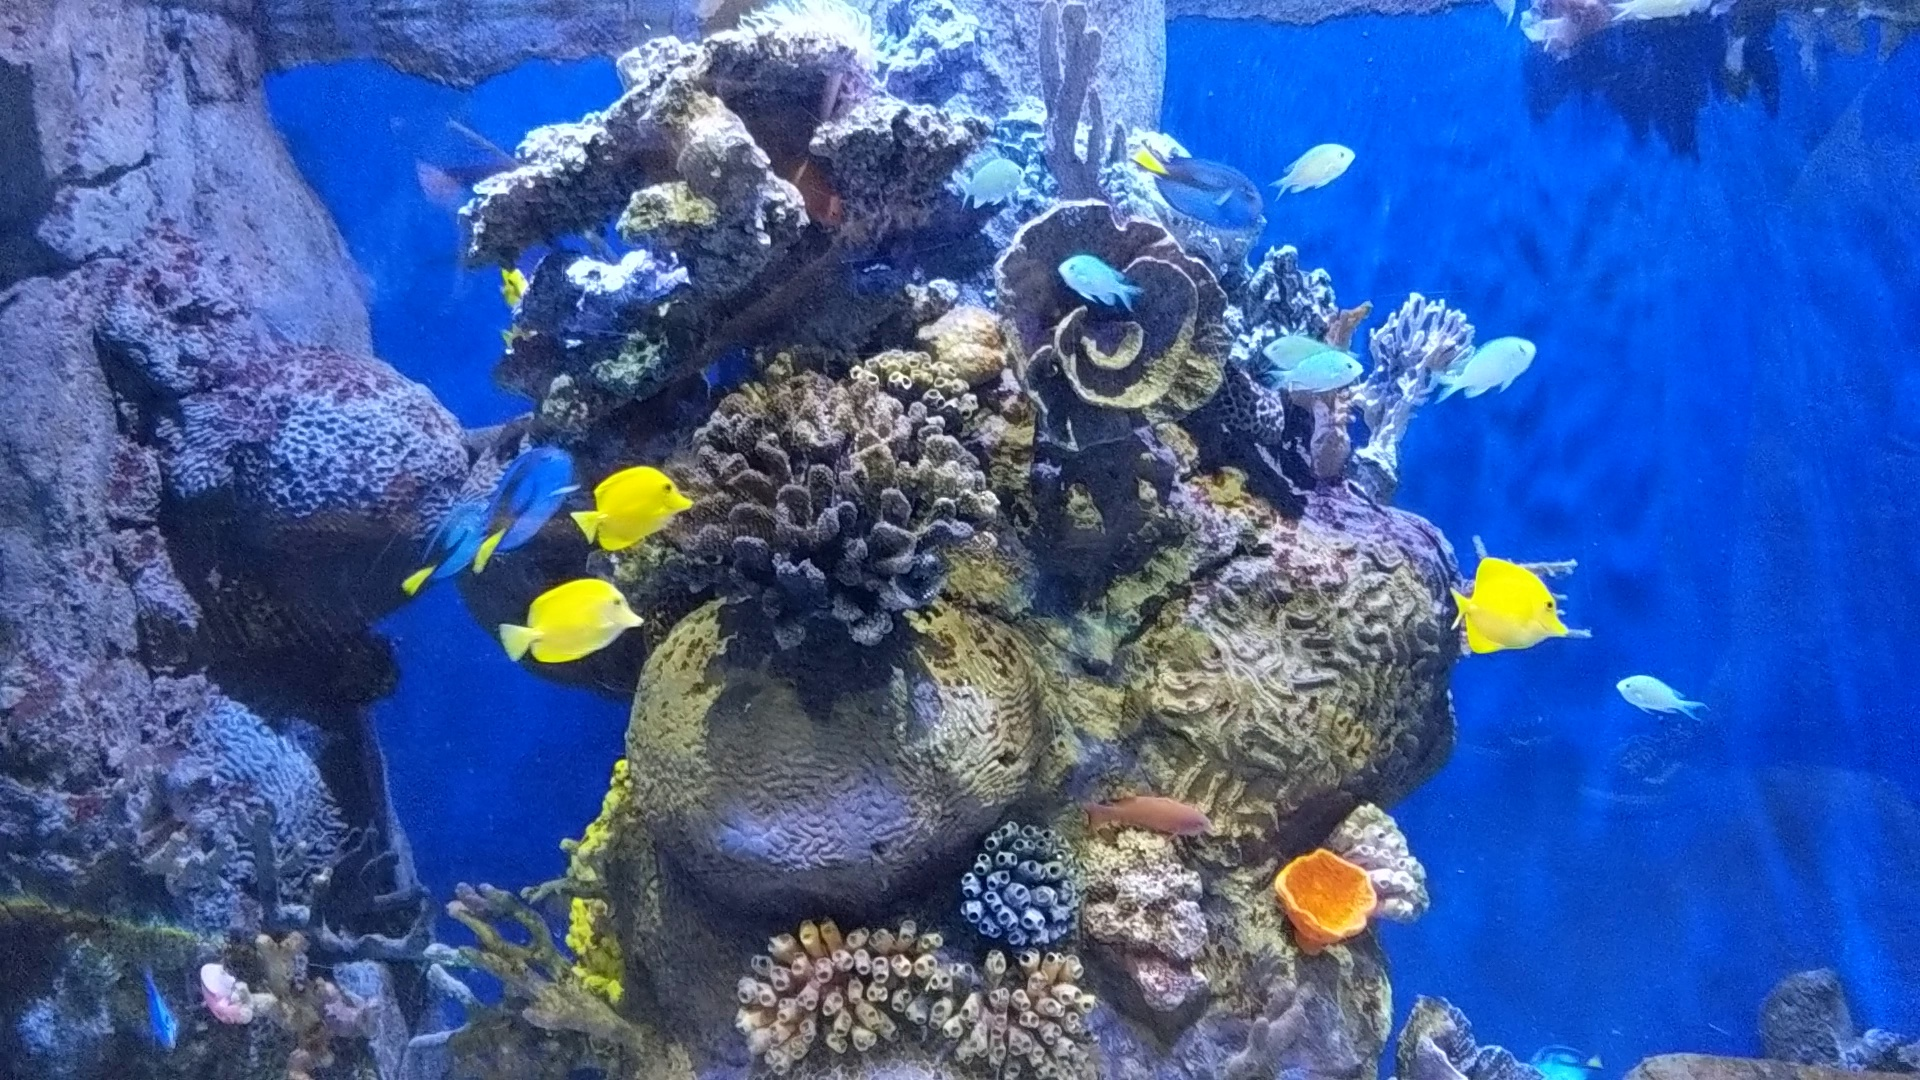blue tang surgeonfish: (473, 440, 574, 578), (1127, 137, 1266, 233), (400, 502, 495, 597), (135, 960, 179, 1056), (1519, 1044, 1614, 1077)
damselfish: (1427, 336, 1539, 404), (1611, 667, 1716, 724), (1270, 137, 1360, 202), (1054, 252, 1142, 314), (1253, 330, 1346, 382), (1262, 351, 1367, 397), (943, 157, 1029, 211), (1610, 0, 1735, 29)
saddle butterfly fish: (1447, 553, 1573, 658), (495, 578, 644, 666), (570, 465, 698, 551), (483, 245, 568, 363)
